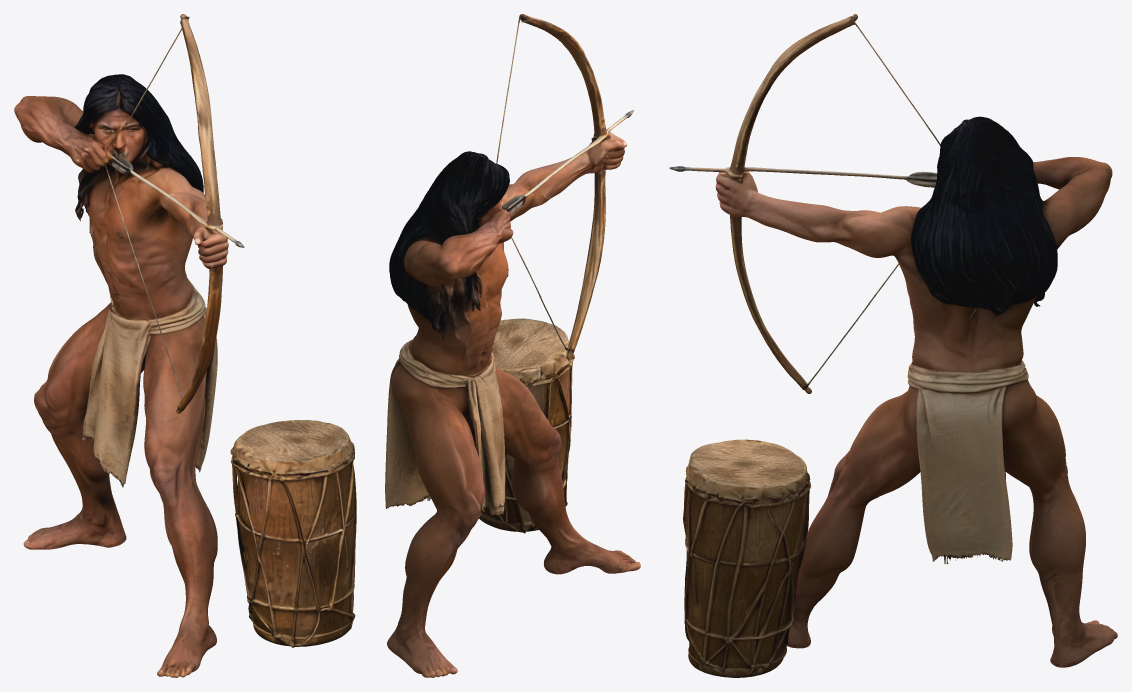
File: indio_flecha_tambor.glb
The picture shows the model from 3 angles, left to right: view 1: azimuth 30°, elevation 25°; view 2: azimuth 150°, elevation 25°; view 3: azimuth 270°, elevation 25°; orthographic projection. The views are drawn at different scales.
Parts seen in each view (by area): view 1: model; view 2: model; view 3: model.
Part boxes in pixels (x1,y1,x2,y2): model: [14, 14, 356, 677]; model: [385, 14, 640, 677]; model: [669, 14, 1117, 677].
Size of the model in its own units: 0.6094 by 1.9 by 1.21.
Materials: 1 (1 with a texture image).
